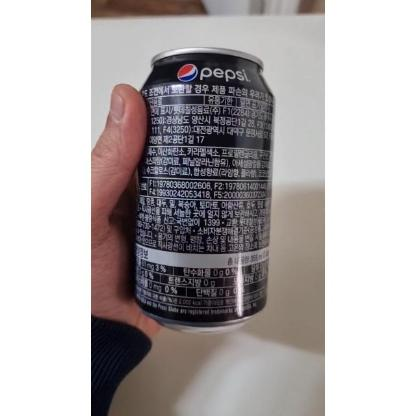Can: (132, 48, 276, 332)
